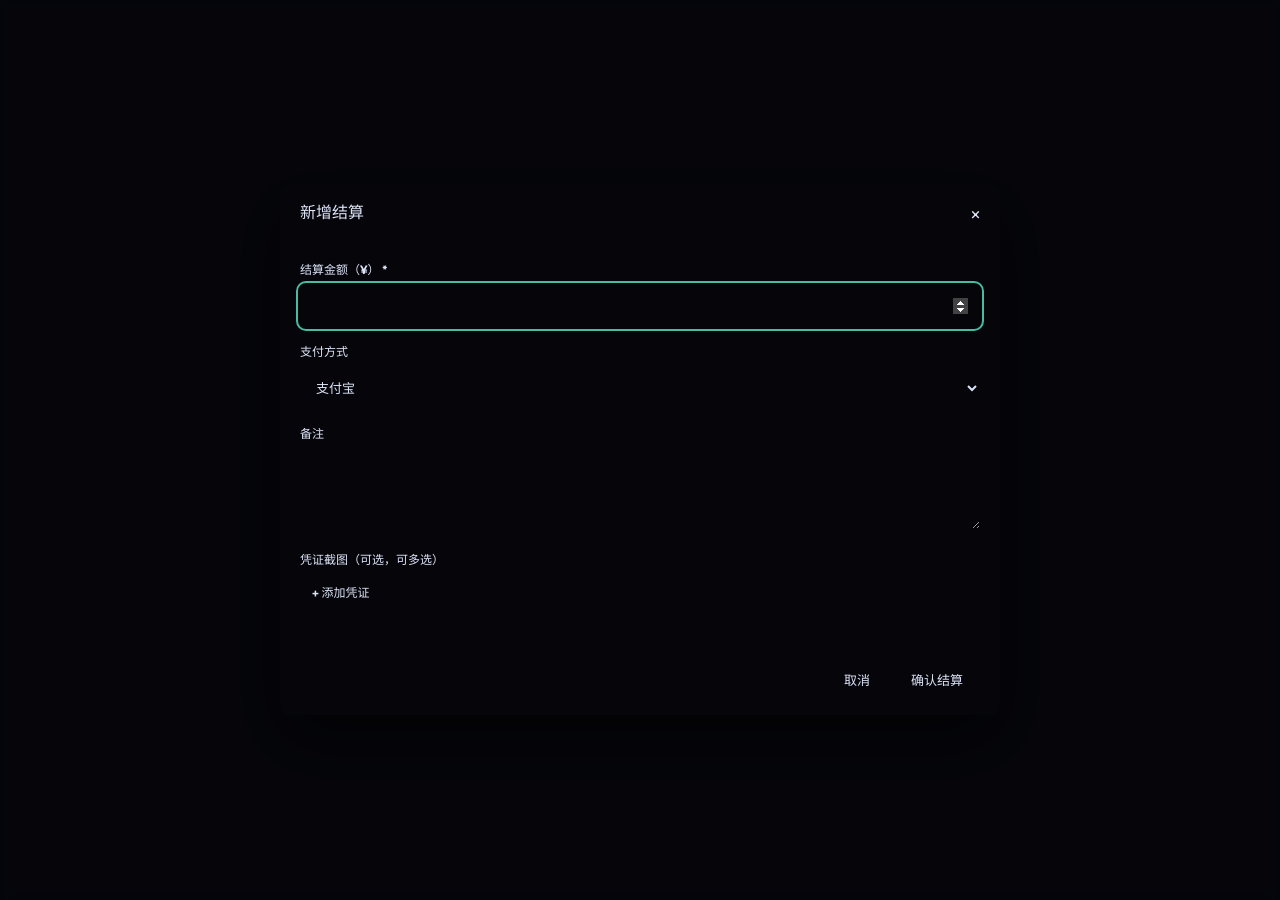
Test case: PaymentDialog › 空金额提交 → 显示"请输入有效金额"
Click the button "确认结算": (937, 681) [894,663,980,699]
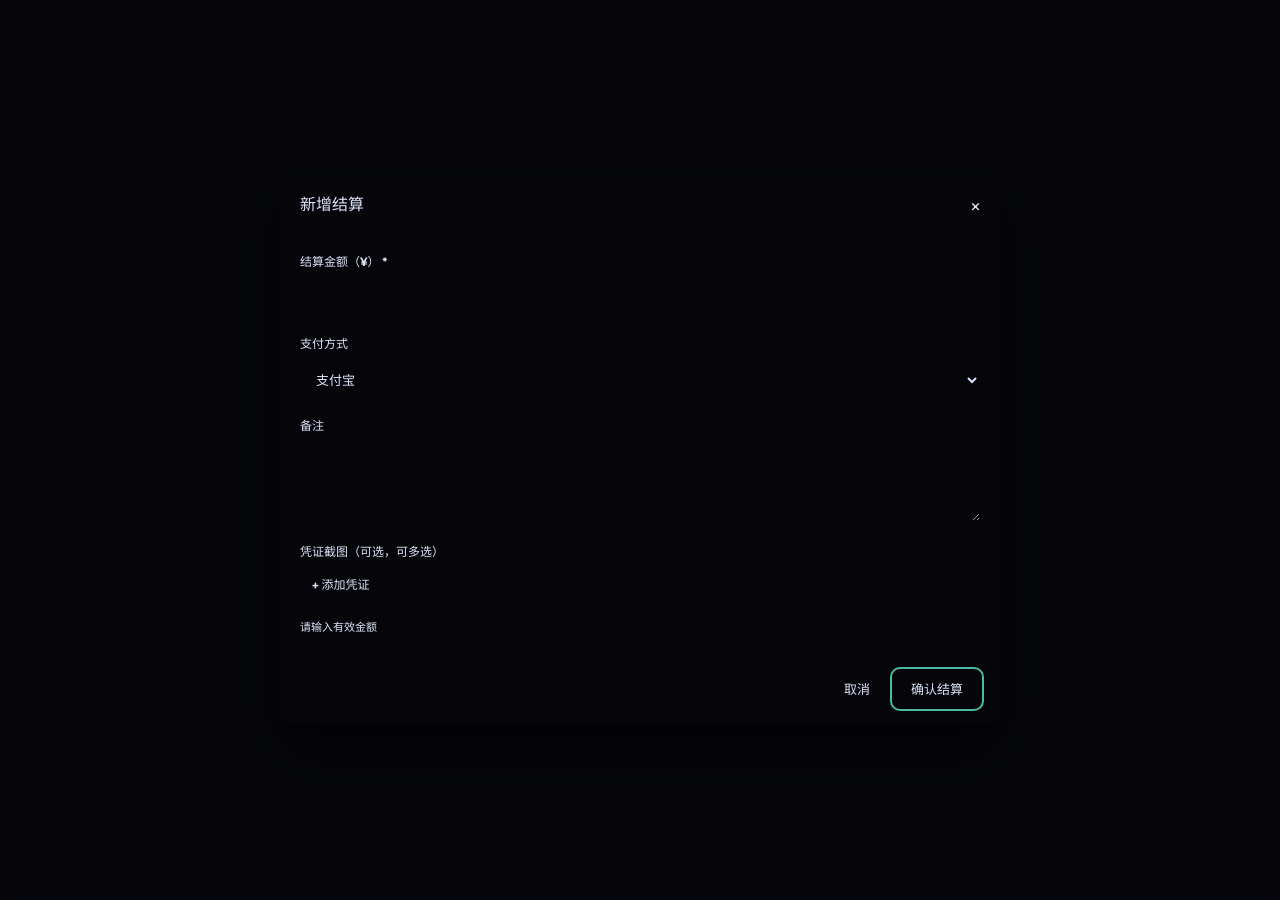
Expected: the text "请输入有效金额" is shown, [300,620,377,634]
